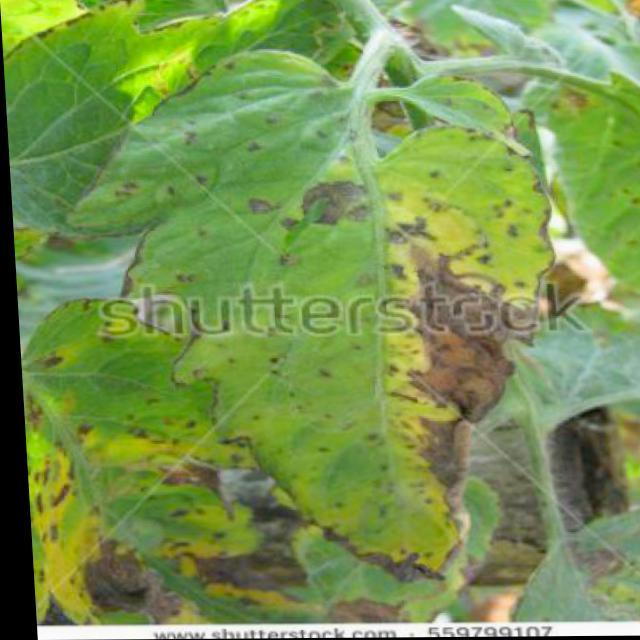Tomato late blight leaf: (52, 29, 568, 603), (14, 296, 314, 619)
